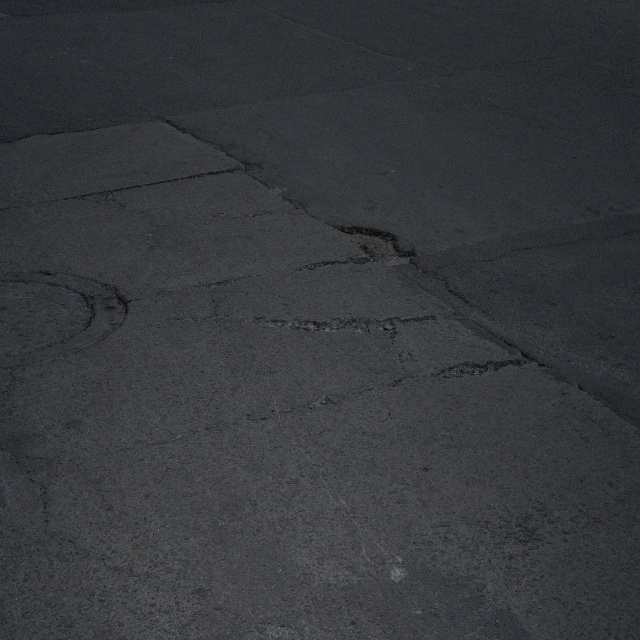pothole: (342, 220, 418, 270), (439, 359, 494, 381), (112, 285, 130, 322), (241, 160, 263, 176)
